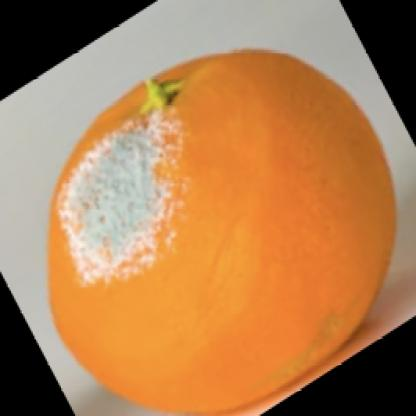rotten: (52, 51, 396, 416)
